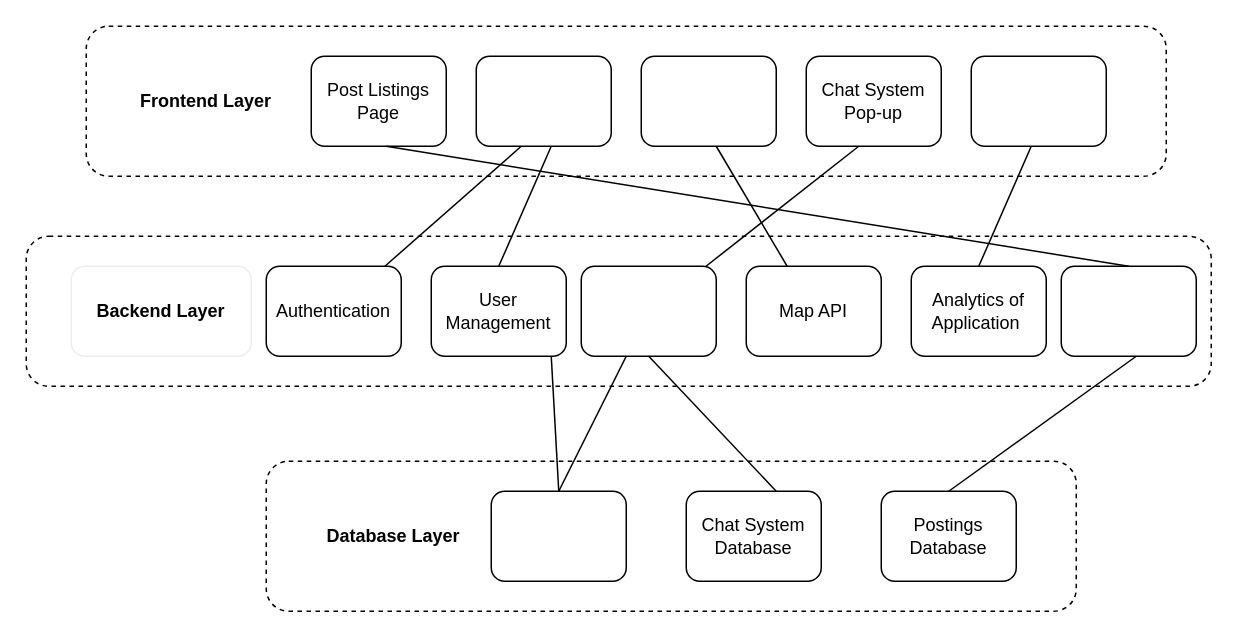
This 1238x638 diagram has some shape labels left out. The shapes that lost their labels are listed below. From the top down, each one's centre as x and y in pixels, then its label:
(x=543, y=100): User Profile Page
(x=708, y=100): Map Page
(x=1038, y=100): Admin Dashboard
(x=648, y=310): Chat System Server
(x=1128, y=310): Posting Management
(x=558, y=535): User Databse
